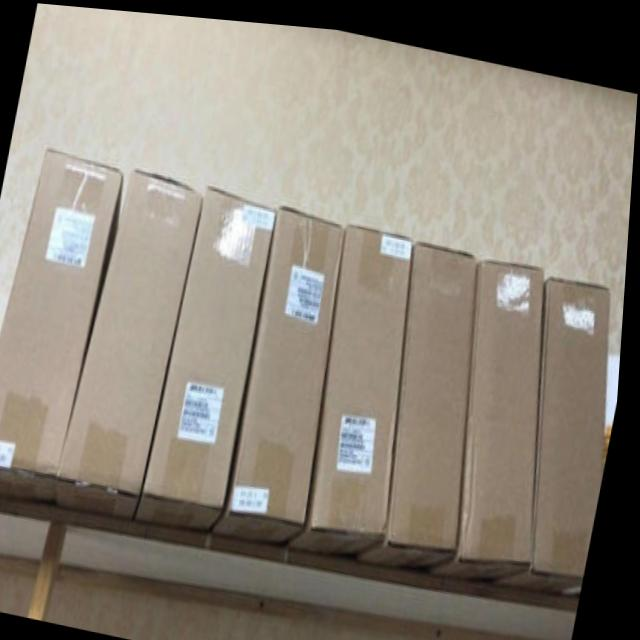box: (61, 167, 206, 517), (141, 181, 279, 528), (0, 145, 124, 503), (218, 199, 346, 539), (293, 217, 415, 551), (364, 233, 480, 561), (493, 267, 611, 580), (433, 252, 546, 572)
